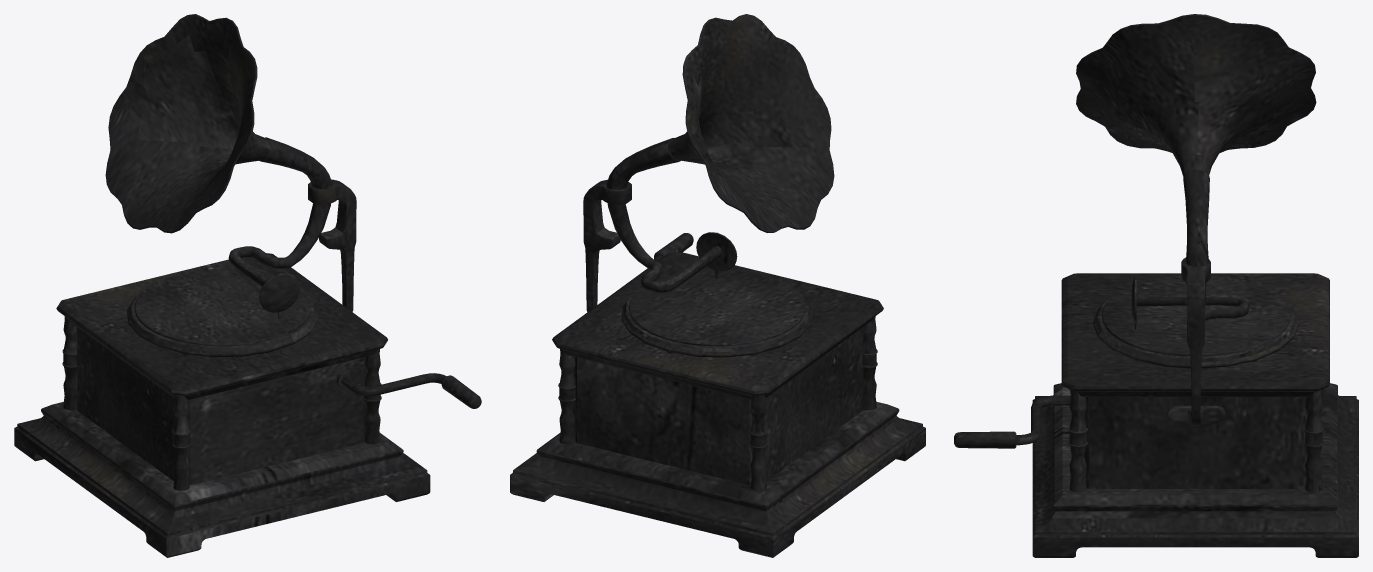
The model's file is SM_Horror_Attic_Gramophone.fbx.
3 views of the same model, side by side, from view 1: azimuth 30°, elevation 25°; view 2: azimuth 150°, elevation 25°; view 3: azimuth 270°, elevation 25° (orthographic). The views are drawn at different scales.
Visible parts, largest first — view 1: SM_Horror_Attic_Gramophone; view 2: SM_Horror_Attic_Gramophone; view 3: SM_Horror_Attic_Gramophone.
Boxes of the visible parts, x1=… form: SM_Horror_Attic_Gramophone: x1=14, y1=14, x2=481, y2=557; SM_Horror_Attic_Gramophone: x1=510, y1=14, x2=925, y2=557; SM_Horror_Attic_Gramophone: x1=954, y1=14, x2=1358, y2=557.
Bounding box in the file's own units: 48.03 × 56.05 × 73.43.
Materials: 1 (1 with a texture image).
